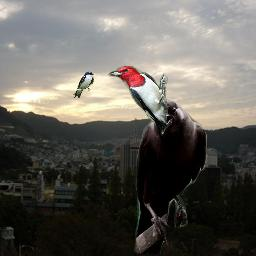Crow: (134, 99, 207, 254)
Swallow: (73, 71, 94, 98)
Woodpecker: (107, 66, 170, 133)
